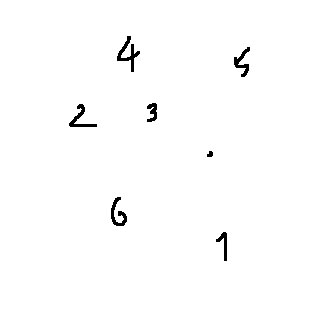.: (204, 146, 220, 161)
1: (209, 225, 242, 271)
2: (60, 95, 103, 139)
3: (137, 96, 164, 129)
4: (109, 35, 148, 80)
5: (222, 45, 265, 80)
6: (105, 190, 139, 230)
